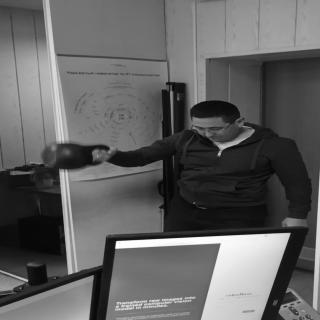girya: (45, 143, 110, 171)
